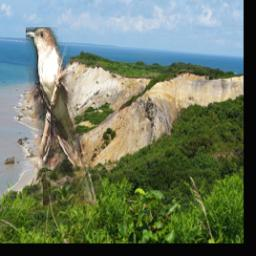Cuckoo: (27, 27, 96, 206)
